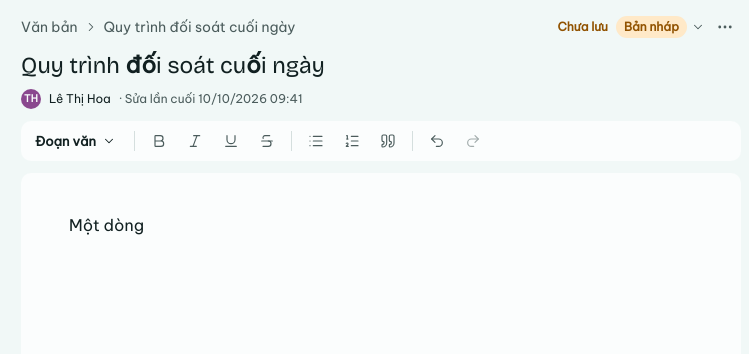
Test: DocumentScreen: saving › changes the paragraph style from the menu
This screenshot has width=749, height=354.
Check: the field with class "doc-prose" is shown, box [69,215,144,235]
Click the button with aria-label "Kiểu đoạn: Đoạn văn" at (76, 141), box [25,125,126,157]
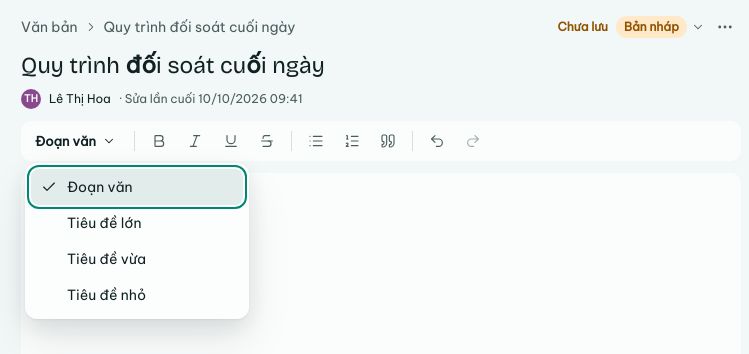
Click the menu item "Tiêu đề lớn" at (137, 223), box [31,205,243,241]
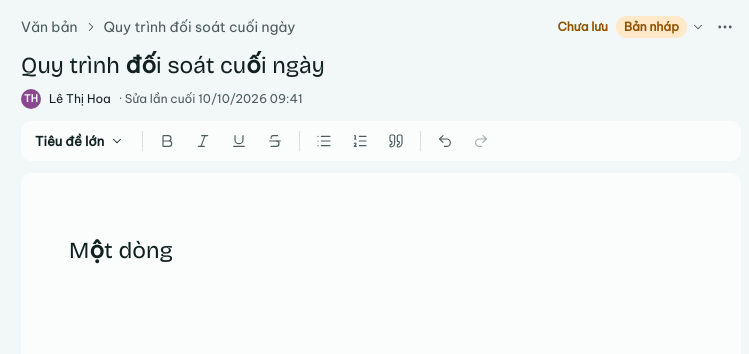
Check: the button with aria-label "Kiểu đoạn: Tiêu đề lớn" is shown, box [25,125,134,157]
